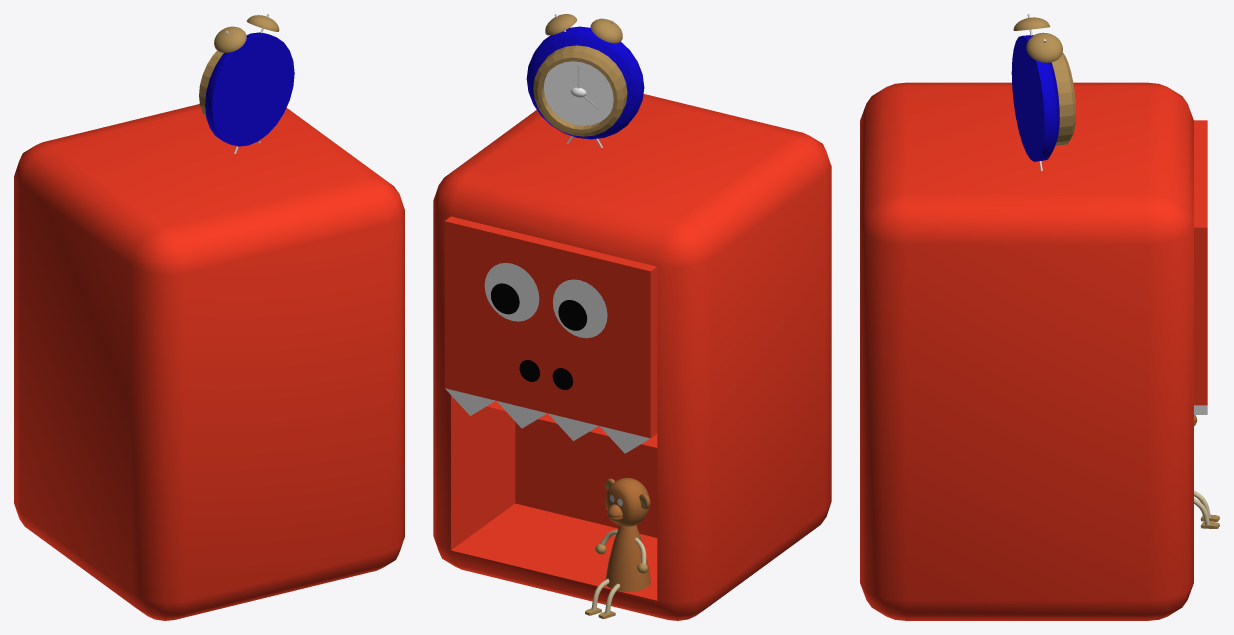
The picture shows the model from 3 angles, left to right: view 1: azimuth 30°, elevation 25°; view 2: azimuth 150°, elevation 25°; view 3: azimuth 270°, elevation 25°; orthographic projection. The views are drawn at different scales.
Visible parts, largest first — view 1: BoîteChanfrein001, Cylindre001, Sphère003; view 2: BoîteChanfrein001, Cylindre001, Cercle001, Cylindre006, Sphère006, Sphère003; view 3: BoîteChanfrein001, Cylindre001, Sphère004.
Part boxes in pixels (x1,y1,x2,y2): BoîteChanfrein001: (14, 104, 404, 620); Cylindre001: (199, 32, 294, 146); Sphère003: (214, 26, 246, 52); BoîteChanfrein001: (433, 94, 831, 620); Cylindre001: (526, 26, 644, 139); Cercle001: (484, 263, 607, 389); Cylindre006: (605, 525, 650, 591); Sphère006: (605, 478, 650, 526); Sphère003: (590, 18, 622, 43); BoîteChanfrein001: (860, 82, 1207, 620); Cylindre001: (1011, 35, 1075, 161); Sphère004: (1026, 32, 1062, 62).
Bounding box in the file's own units: 41.39 × 76.18 × 44.41.
